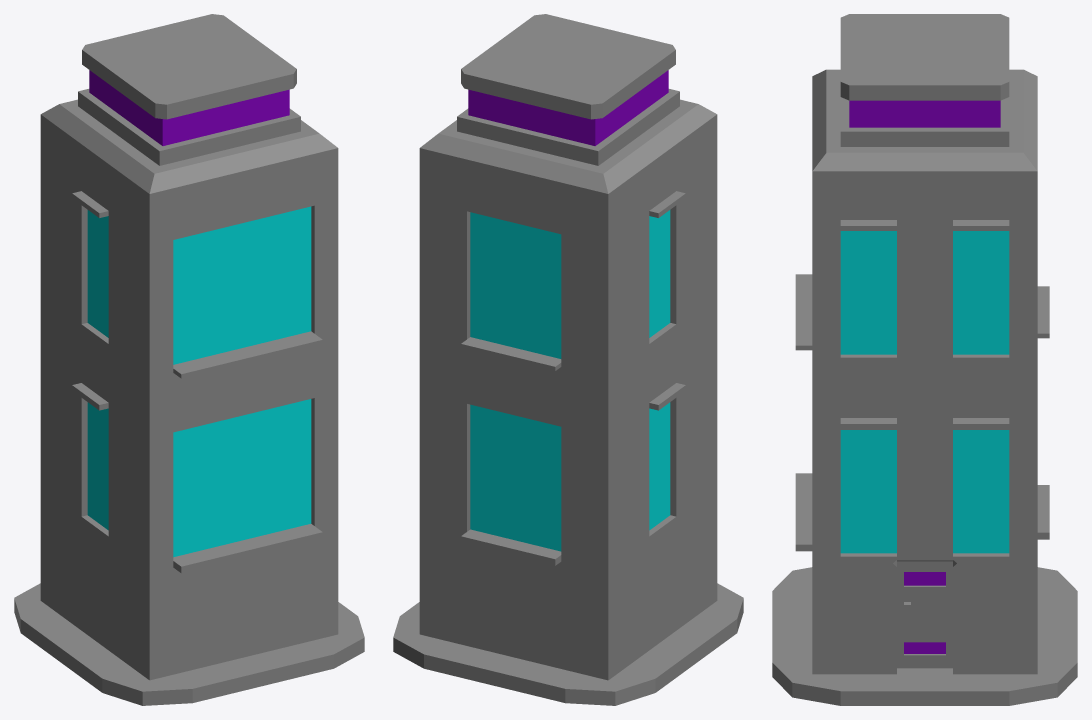
The model's file is Building7.fbx.
3 views of the same model, side by side, from view 1: azimuth 30°, elevation 25°; view 2: azimuth 150°, elevation 25°; view 3: azimuth 270°, elevation 25° (orthographic). The views are drawn at different scales.
Parts seen in each view (by area): view 1: Building7; view 2: Building7; view 3: Building7.
Boxes of the visible parts, x1,y1,x2,y2 form: Building7: [14, 14, 364, 705]; Building7: [393, 14, 743, 705]; Building7: [772, 14, 1077, 705].
Size of the model in its own units: 17.84 by 38.17 by 17.84.
